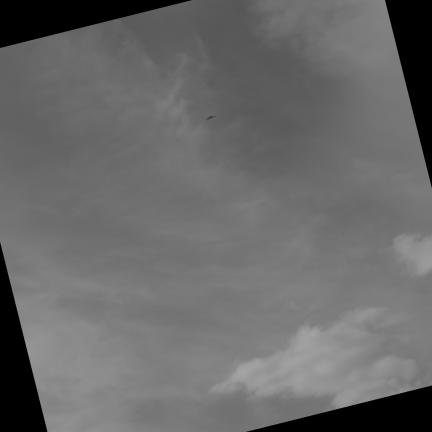Shahed: (206, 115, 215, 120)
